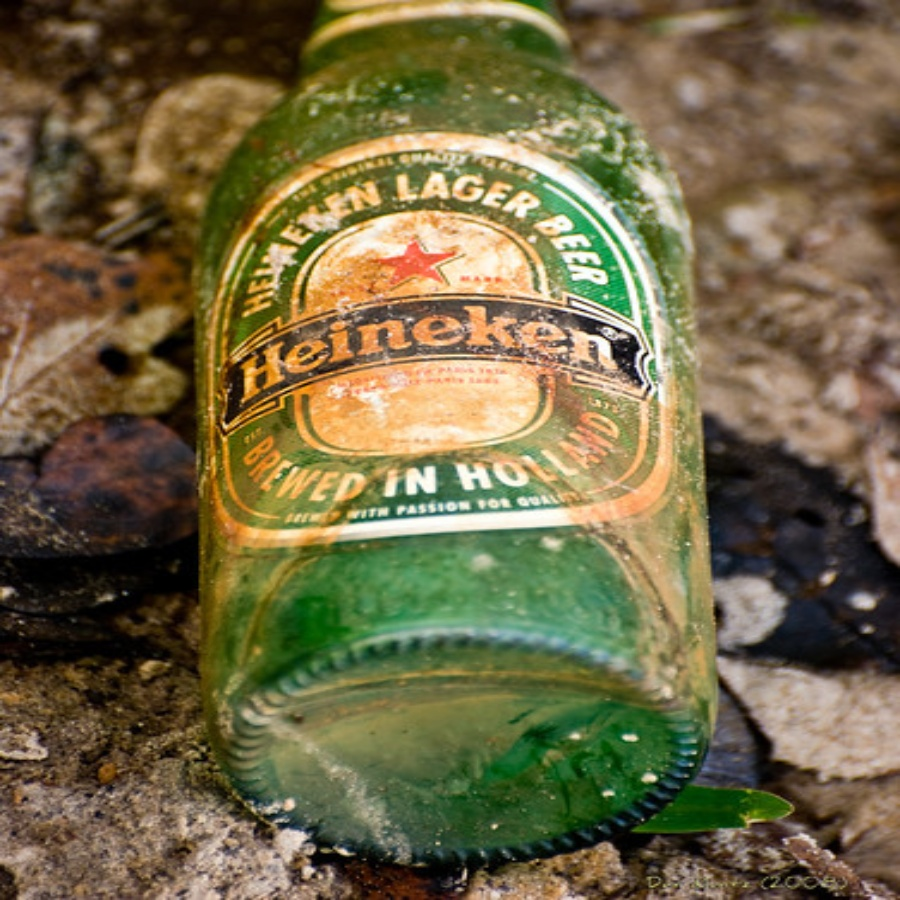beer: (202, 11, 707, 833)
